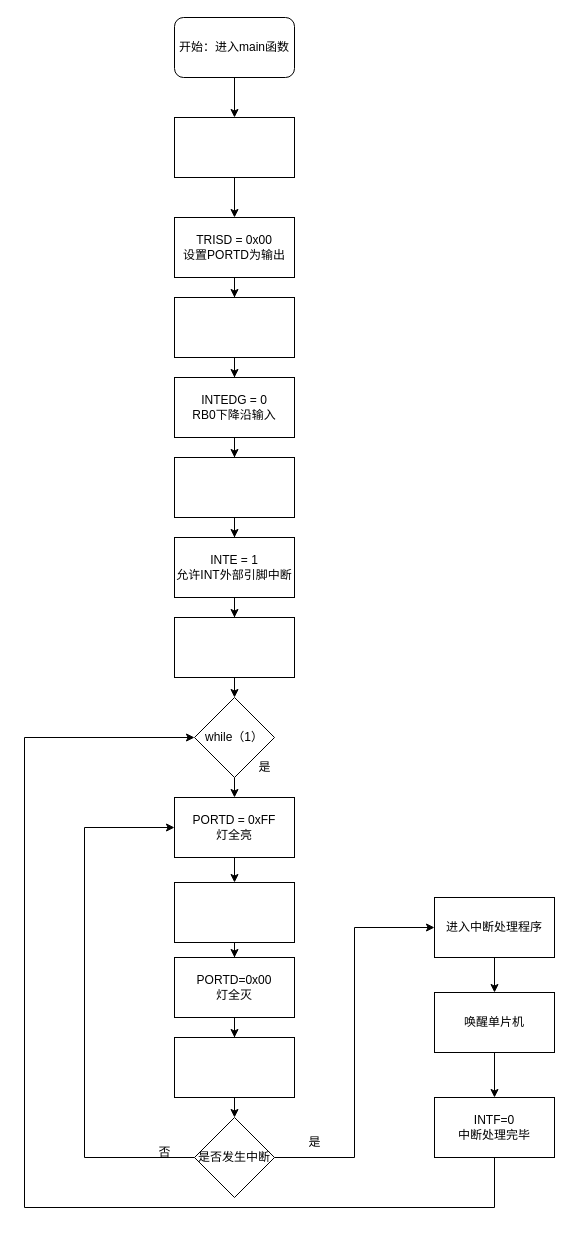
Some shapes in this 572 by 1233 pixel diagram are drawn without their labels. Each missing label, with the centre of its shape:
DelayMS（1000） 停顿1秒: the point at 234,912
GIE=1 允许全局中断: the point at 234,647
INTF = 0 标志位置零: the point at 234,487
PORTD=0X00 熄灭PORTD端口所有灯: the point at 234,327
SLEEP（） 睡眠状态: the point at 234,1067
TRISBO=1 配置RB0引脚为输入模式: the point at 234,147
